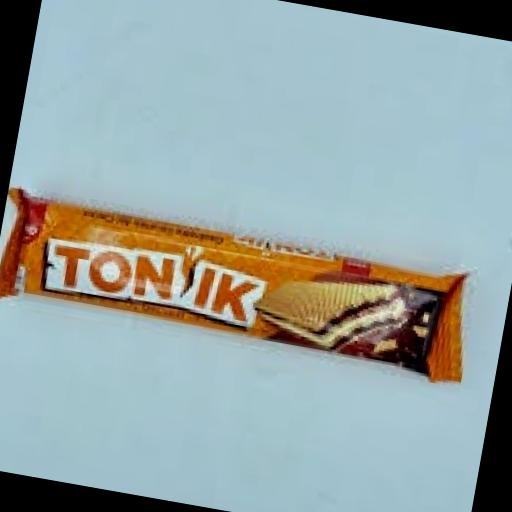tonik: (0, 131, 511, 480)
